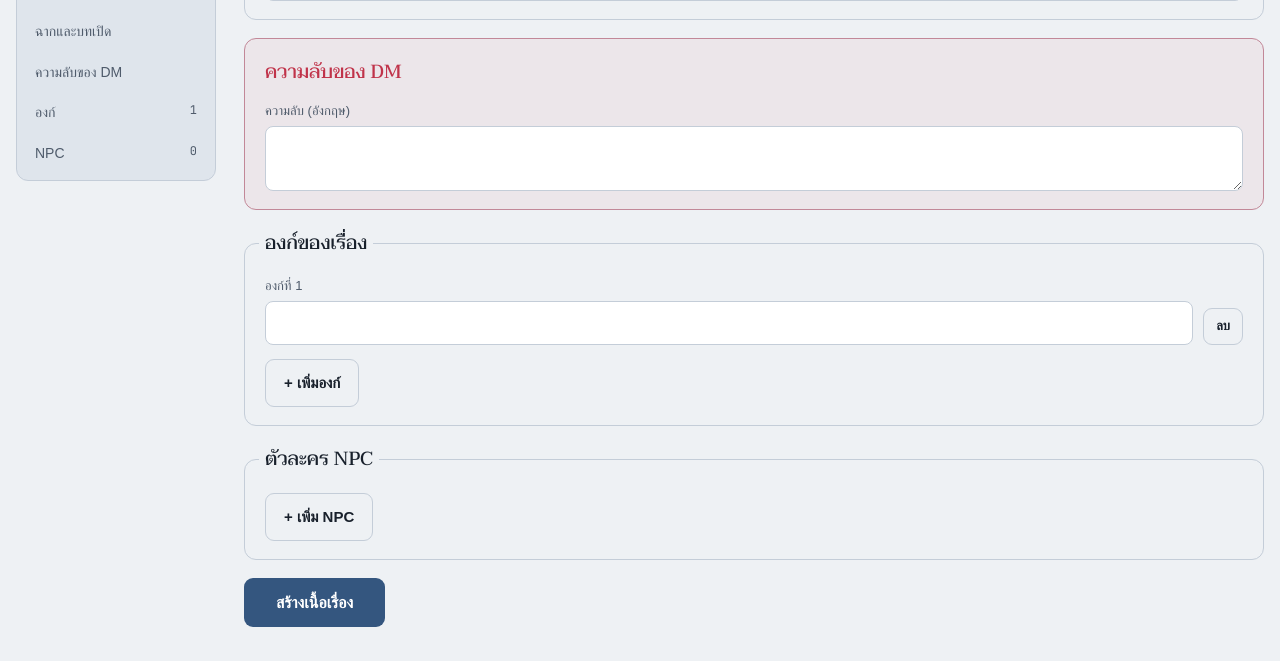
AdventureForm — step 1, create › removes an act row
The image size is (1280, 661).
(page scrolled)
Step 1. Click the button "+ เพิ่มองก์" → (312, 383), box [265, 359, 359, 407]
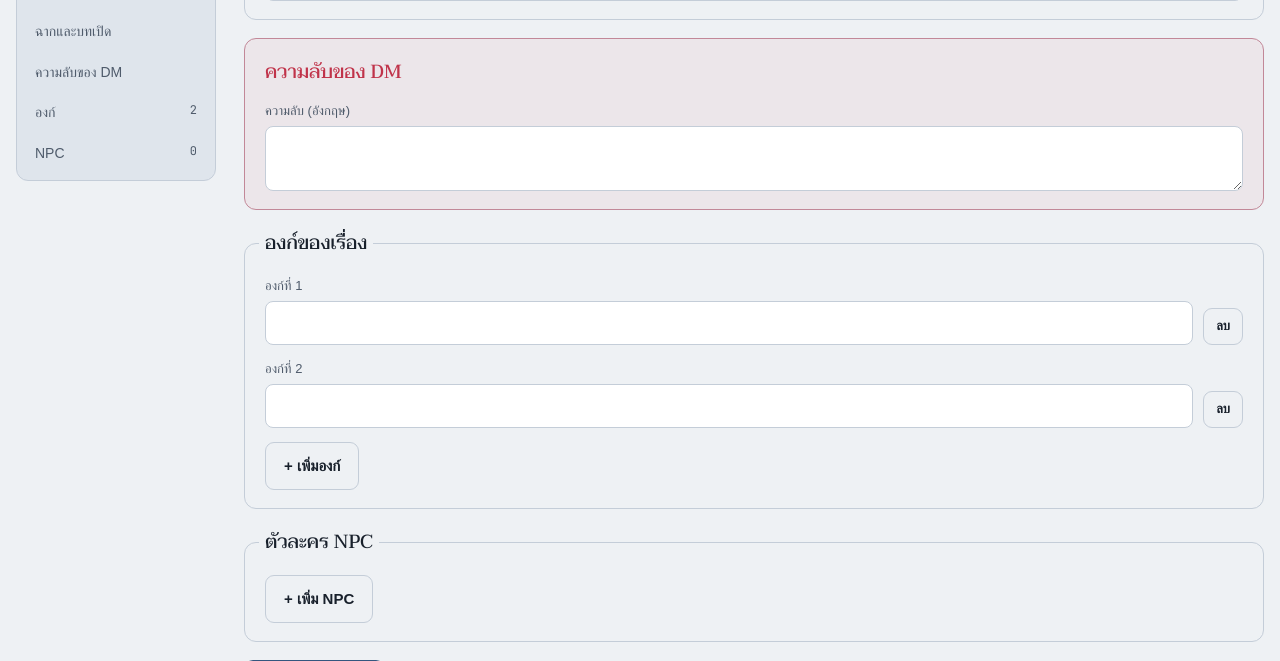
Step 2. Click the 1st button "ลบ" → (1223, 327), box [1203, 308, 1243, 345]
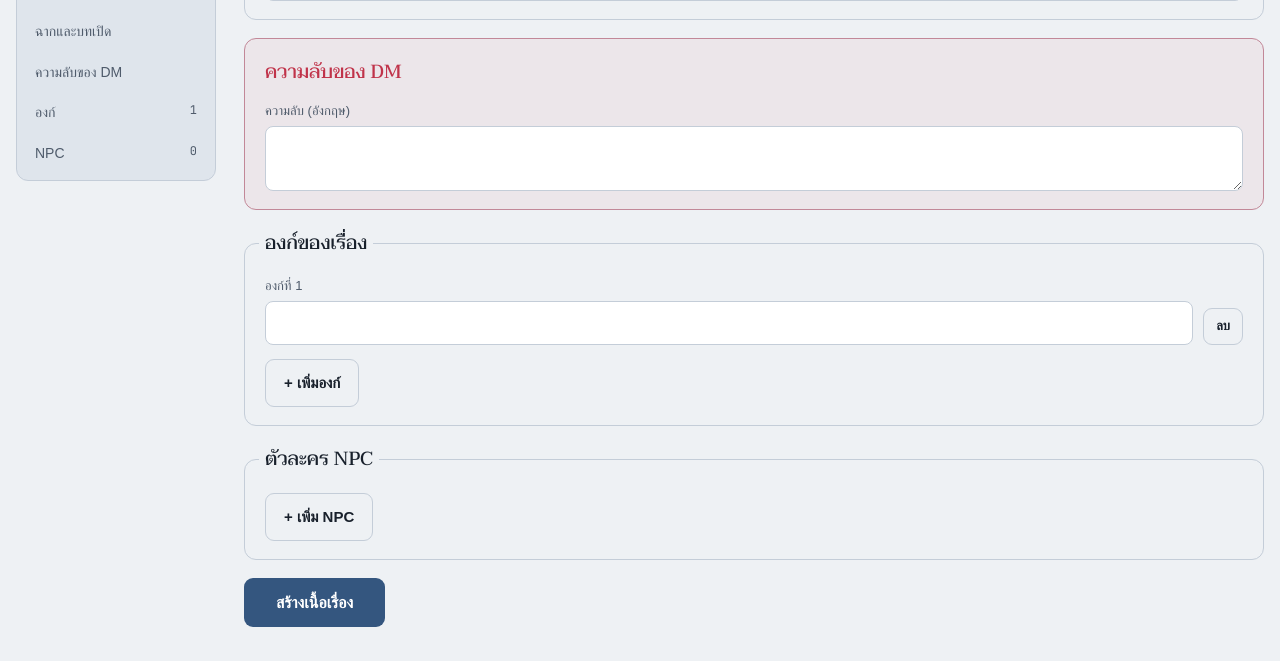
Expected: the number of fields labelled "องก์ที่ 1" is 1, [265, 301, 1193, 345]
